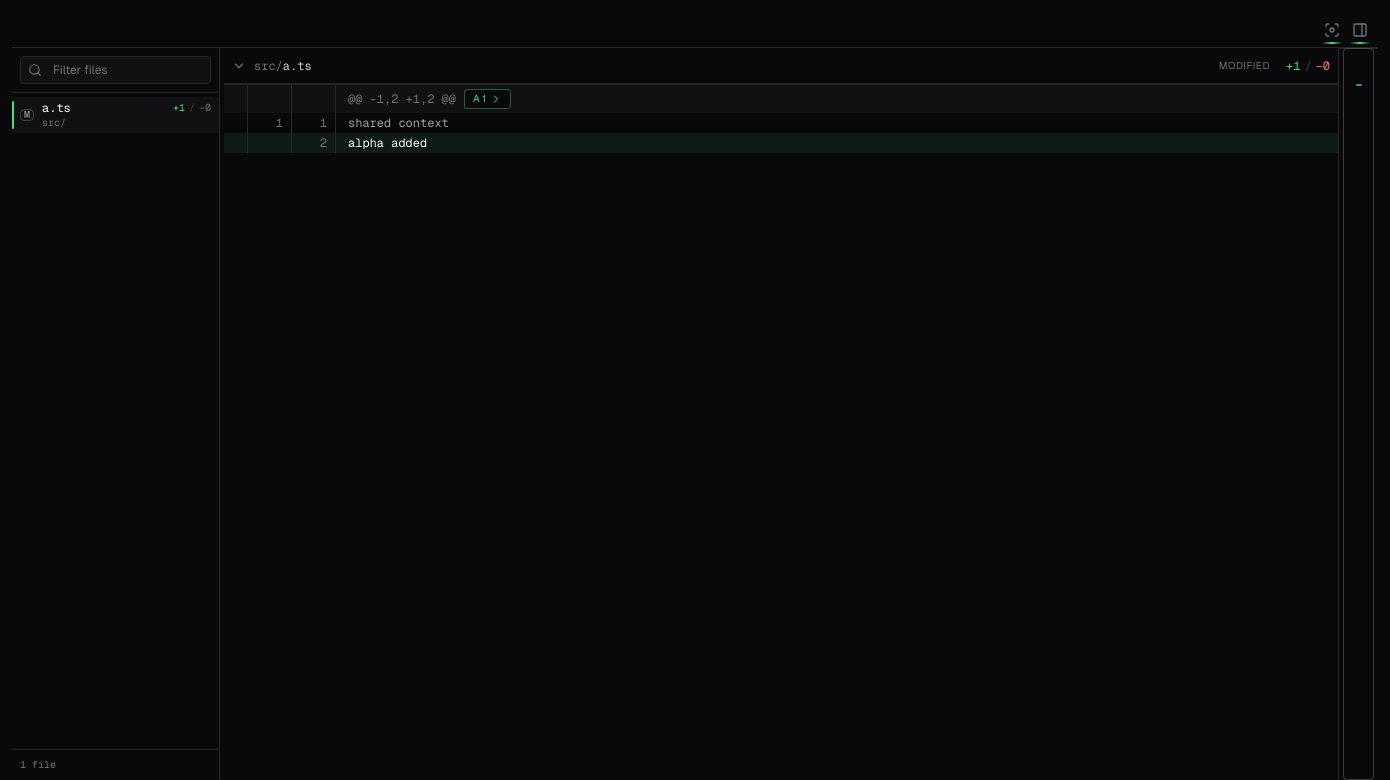
Test: DiffView › semantic changes appear in a hunk chip on demand, not as always-on rows
Expected: the text "checkout" is not shown
Step 1. Click the button named "1 added in this hunk" → [488, 99], box [464,89,511,109]
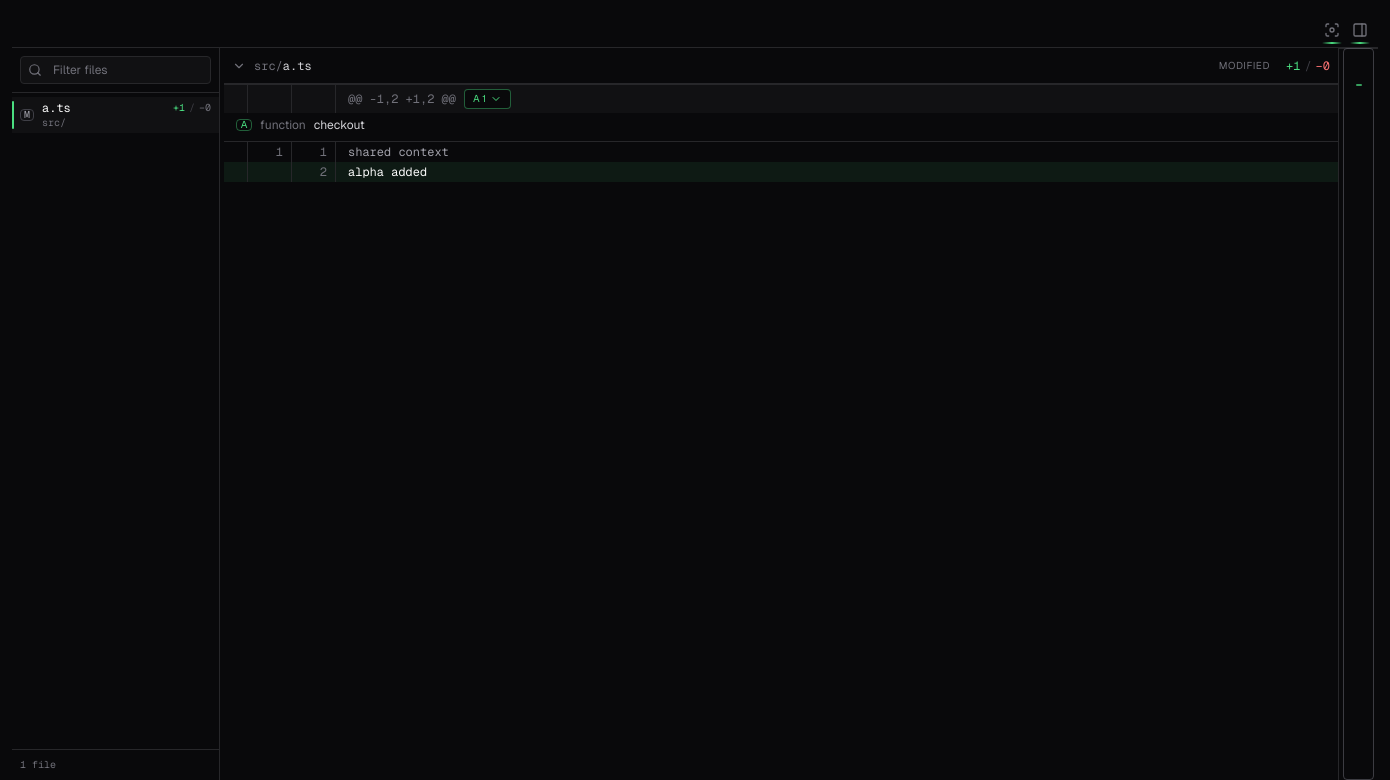
Expected: the text "checkout" is shown, [314,117,365,133]
